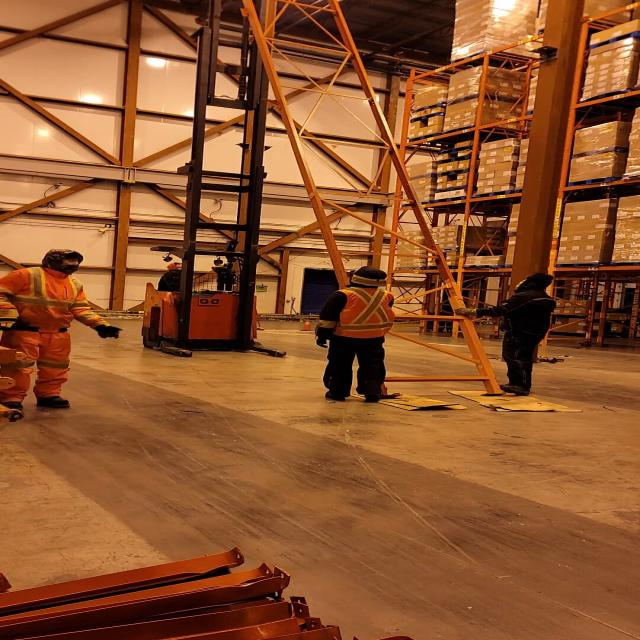forklift: (136, 162, 290, 360)
human: (0, 246, 124, 420), (453, 272, 560, 398), (308, 264, 398, 401), (148, 259, 216, 295)
objectofinterest: (238, 11, 518, 400), (448, 386, 590, 415), (341, 383, 467, 411)
